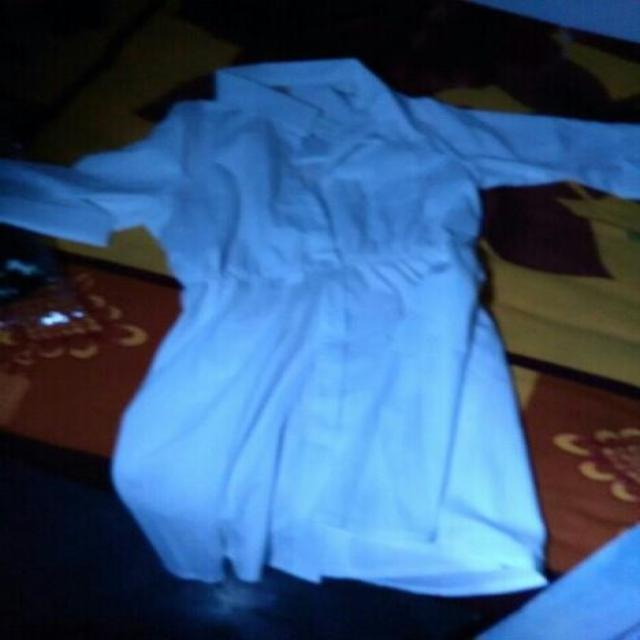short-sleeve-dress: (9, 59, 635, 609)
